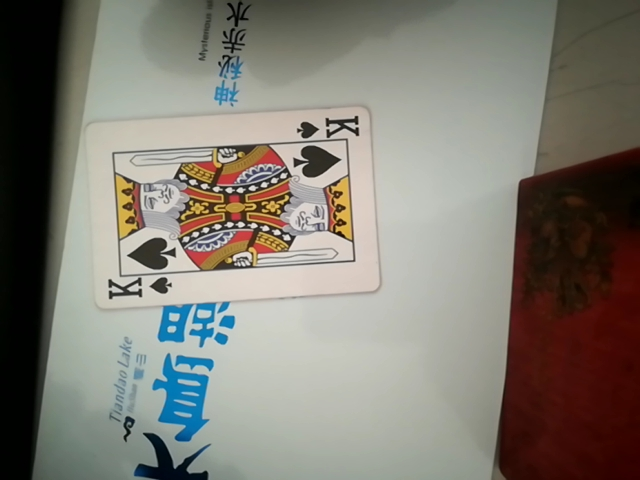ht k: (85, 98, 382, 309)
